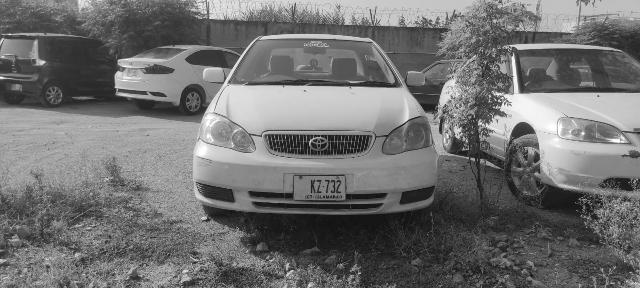Number: (306, 179, 342, 195)
